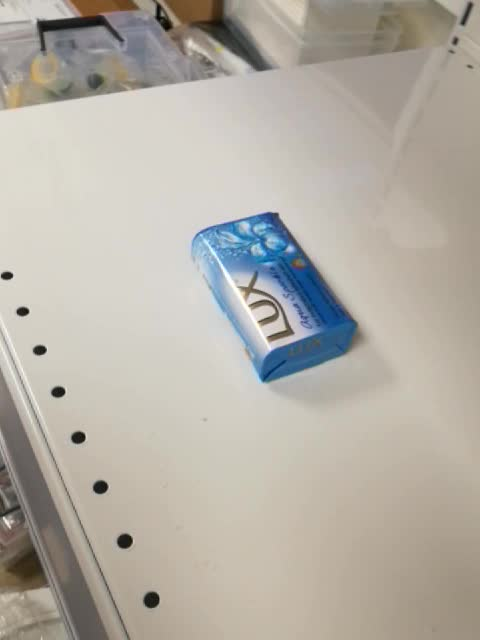soap: (190, 210, 361, 384)
